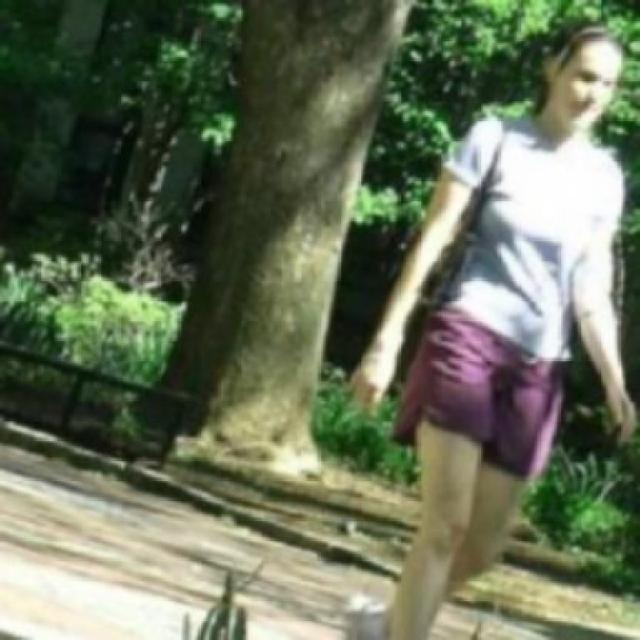Person: (347, 24, 638, 638)
